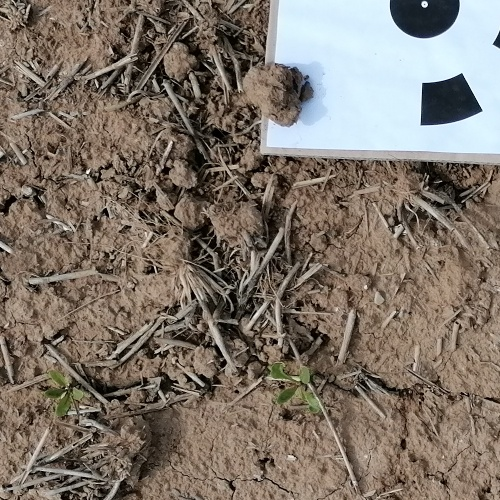beet: (272, 358, 322, 413), (46, 372, 82, 420)
